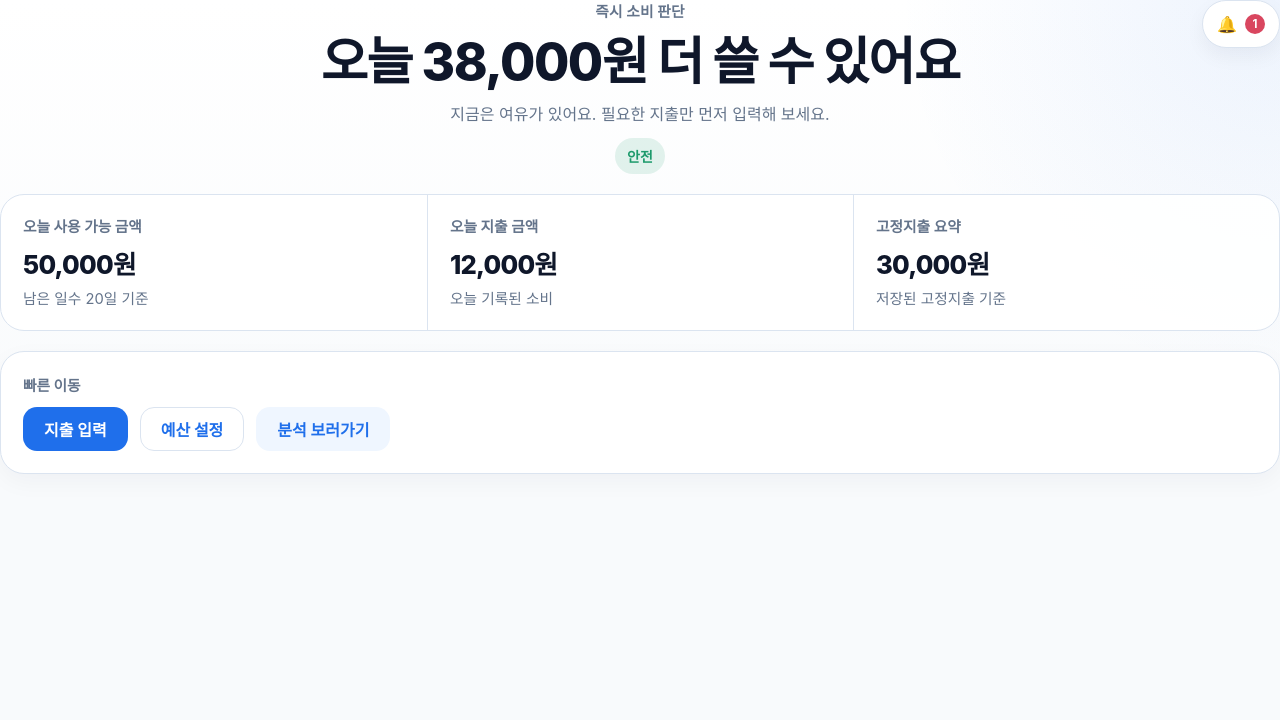
it: Home › opens the alert history panel and shows saved alert items
Click the button named "알림 기록 보기": x=1241, y=24 [1202,0,1279,48]
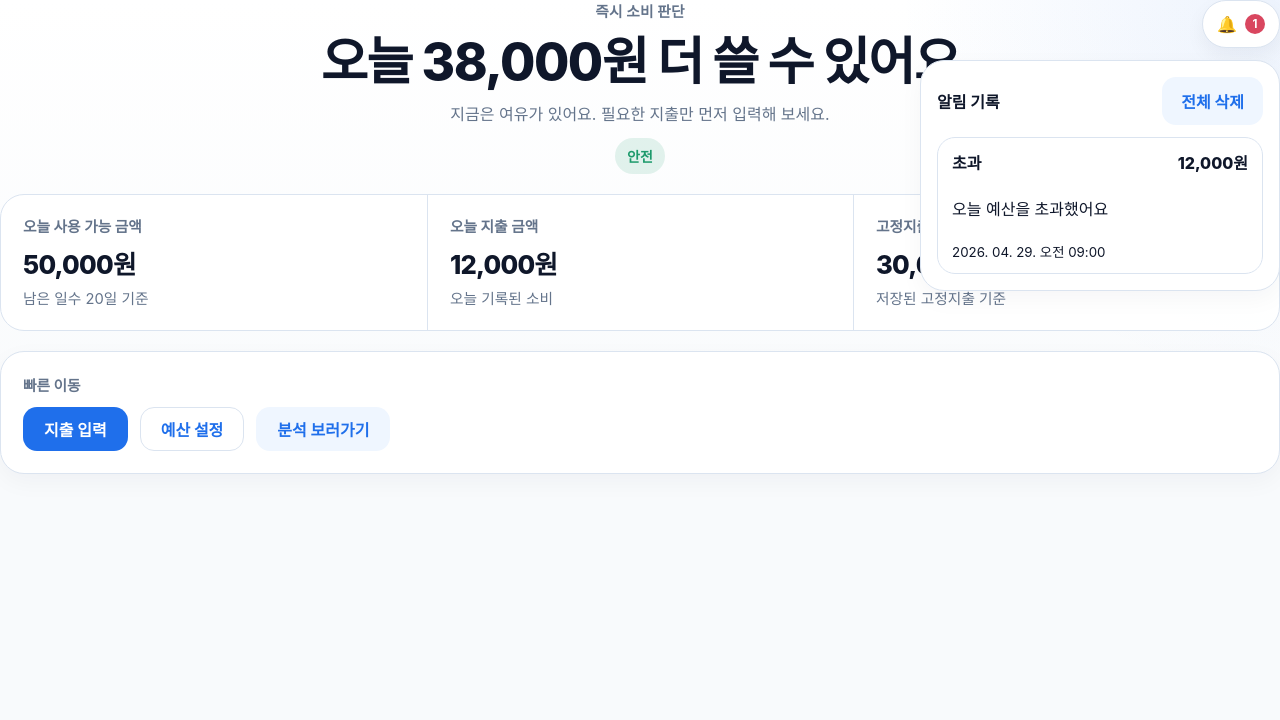
Check: the dialog "알림 기록" is shown, box [920,60,1279,291]
Check: the text "오늘 예산을 초과했어요" is shown, box [952,199,1108,219]
Check: the text "12,000원" below "알림 기록" is shown, box [1178,150,1248,174]
